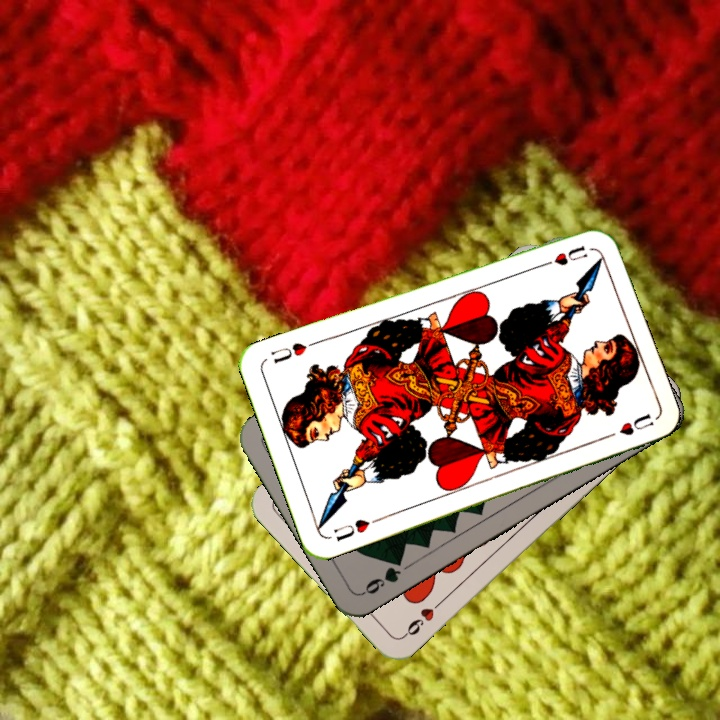G9: (358, 553, 406, 598)
H9: (399, 595, 446, 640)
HU: (330, 514, 383, 544), (550, 241, 590, 268)
